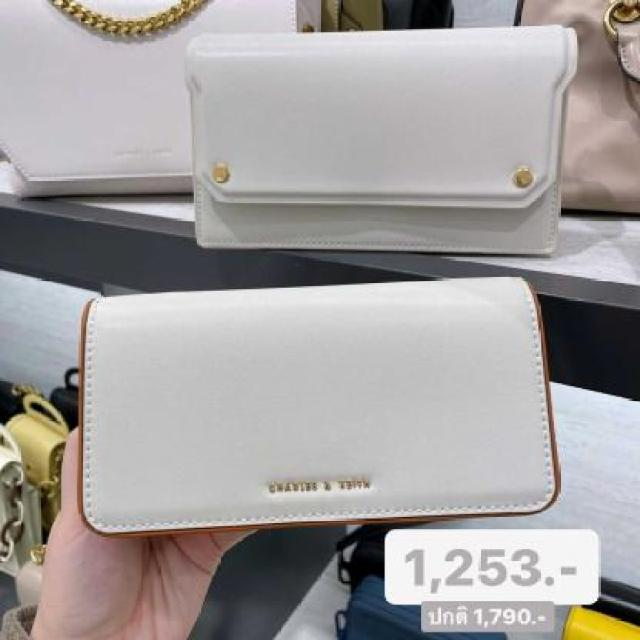Bag: (52, 256, 580, 589), (155, 14, 603, 306)
